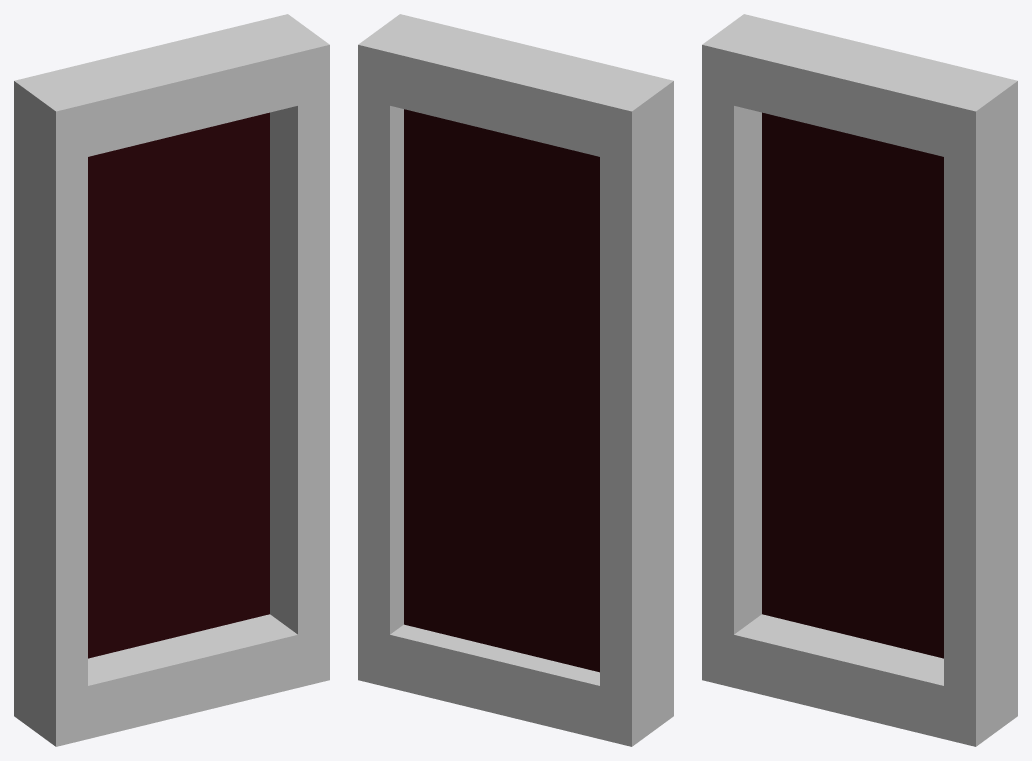
File: door.fbx
The picture shows the model from 3 angles, left to right: view 1: azimuth 30°, elevation 25°; view 2: azimuth 150°, elevation 25°; view 3: azimuth 330°, elevation 25°; orthographic projection.
Parts seen in each view (by area): view 1: door_plane; view 2: door_plane; view 3: door_plane.
Part boxes in pixels (<box>): door_plane: <box>14,14,329,746</box>; door_plane: <box>358,14,673,746</box>; door_plane: <box>702,14,1017,746</box>.
Bounding box in the file's own units: 68.8 × 153 × 18.28.
